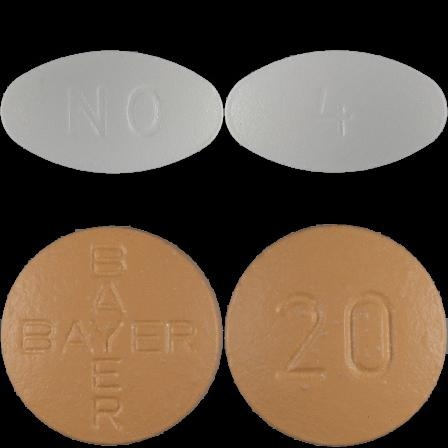0179-0099: (0, 0, 224, 224)
